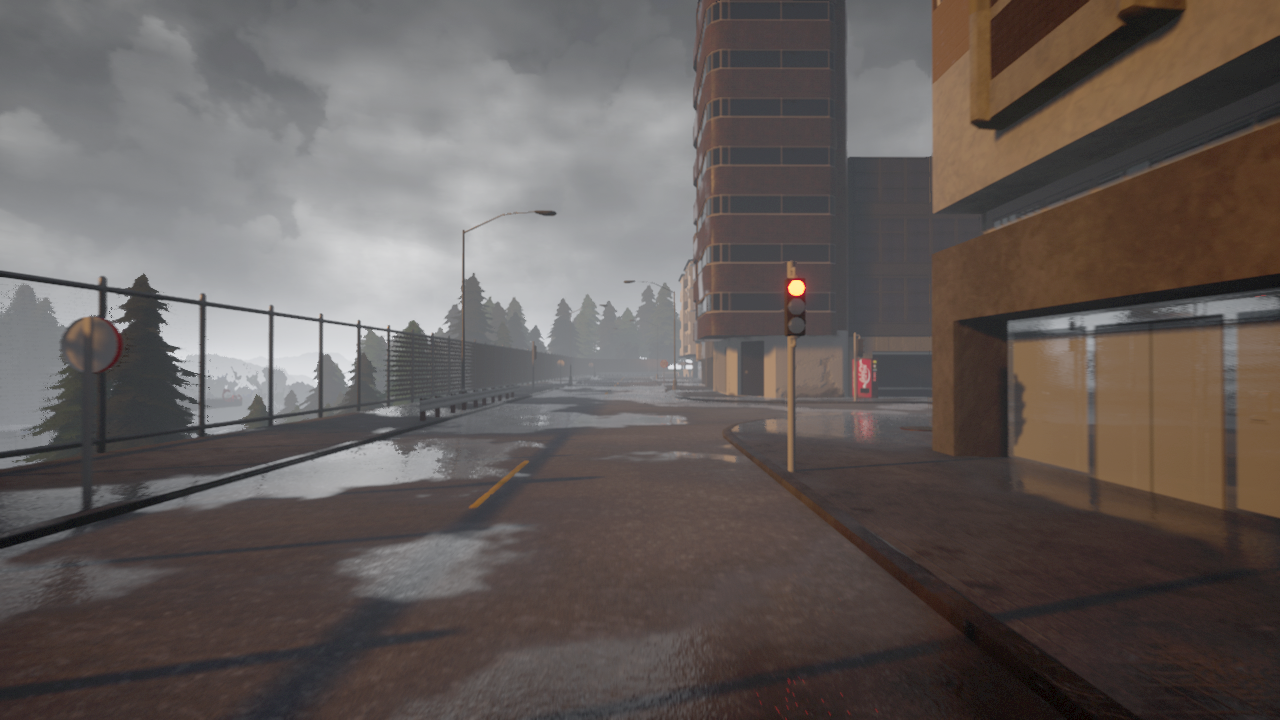red: (782, 277, 806, 335)
